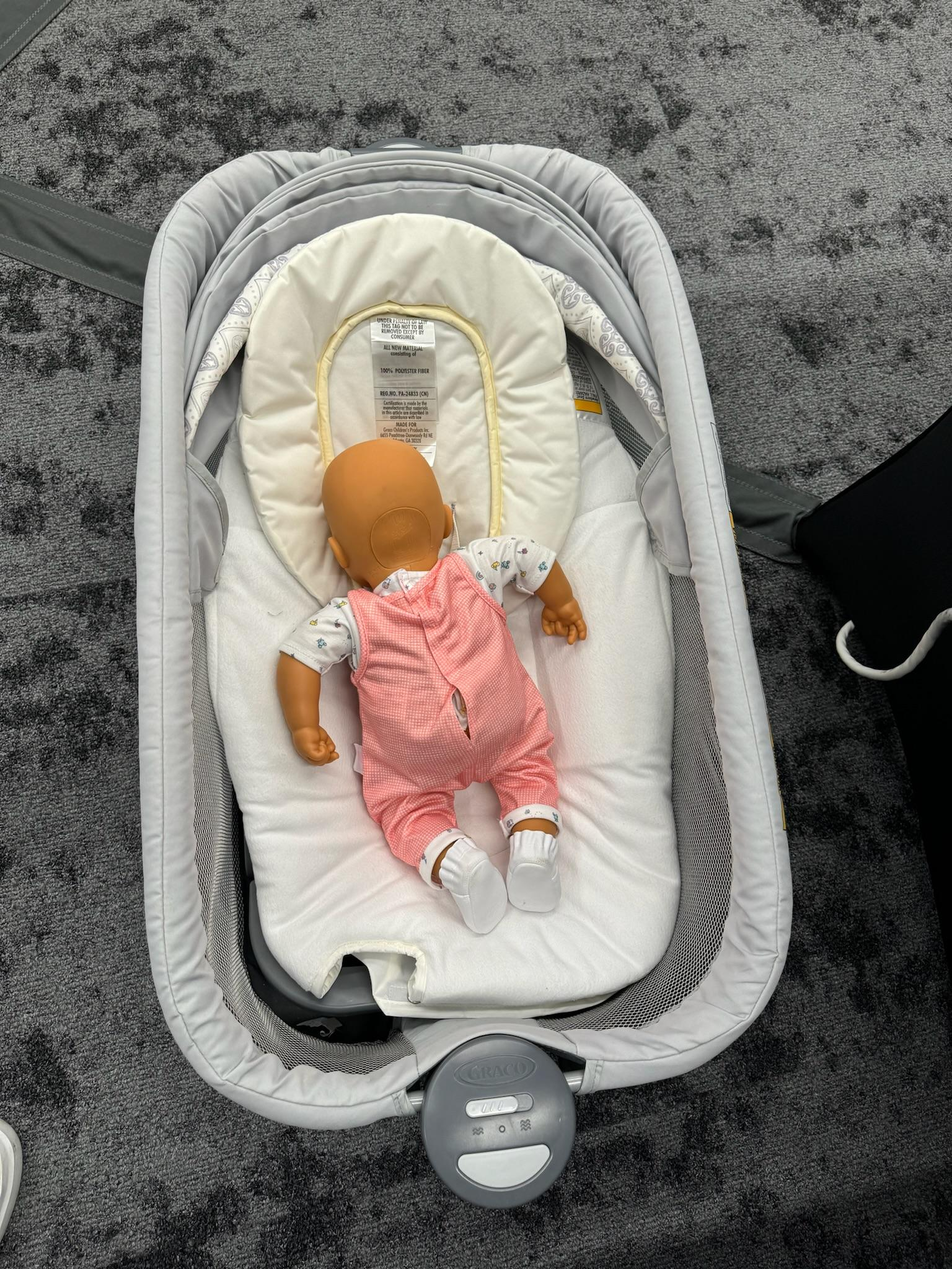baby: (274, 430, 602, 946)
